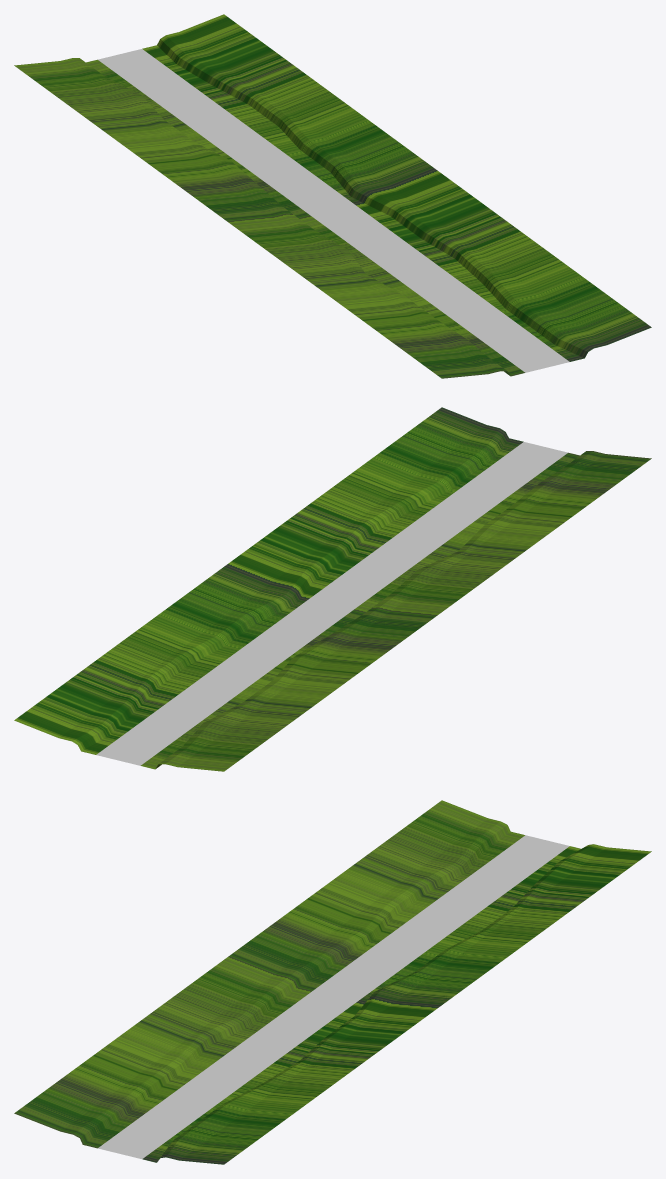
File: ground_1.fbx
The picture shows the model from 3 angles, top to bottom: view 1: azimuth 30°, elevation 25°; view 2: azimuth 150°, elevation 25°; view 3: azimuth 330°, elevation 25°; orthographic projection.
Visible parts, largest first — view 1: Plane; view 2: Plane; view 3: Plane.
Part boxes in pixels (<box>): Plane: <box>14,14,651,378</box>; Plane: <box>14,407,651,771</box>; Plane: <box>14,800,651,1164</box>.
Bounding box in the file's own units: 2834 × 188 × 10000.
